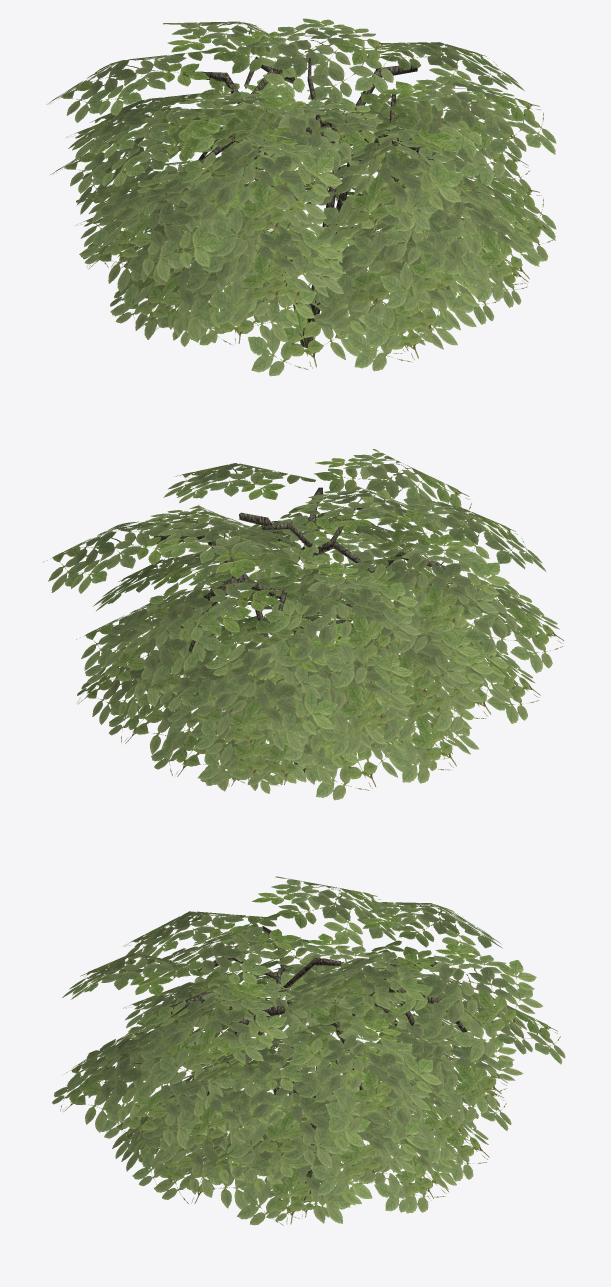
File: Vegetation_Shurb_01A.fbx
3 renders of one model, top to bottom at view 1: azimuth 30°, elevation 25°; view 2: azimuth 150°, elevation 25°; view 3: azimuth 270°, elevation 25°, orthographic. The views are drawn at different scales.
Parts seen in each view (by area): view 1: Vegetation_Shurb_01A; view 2: Vegetation_Shurb_01A; view 3: Vegetation_Shurb_01A.
Part boxes in pixels (bbox=[...]): Vegetation_Shurb_01A: bbox=[46, 18, 556, 376]; Vegetation_Shurb_01A: bbox=[43, 449, 564, 800]; Vegetation_Shurb_01A: bbox=[52, 876, 565, 1225].
Bounding box in the file's own units: 245 × 119 × 247.
Materials: 2 (2 with a texture image).
